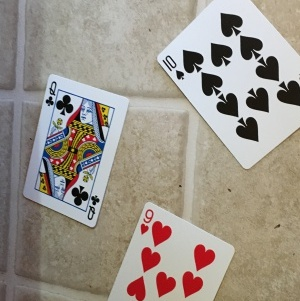card: (20, 72, 129, 229)
